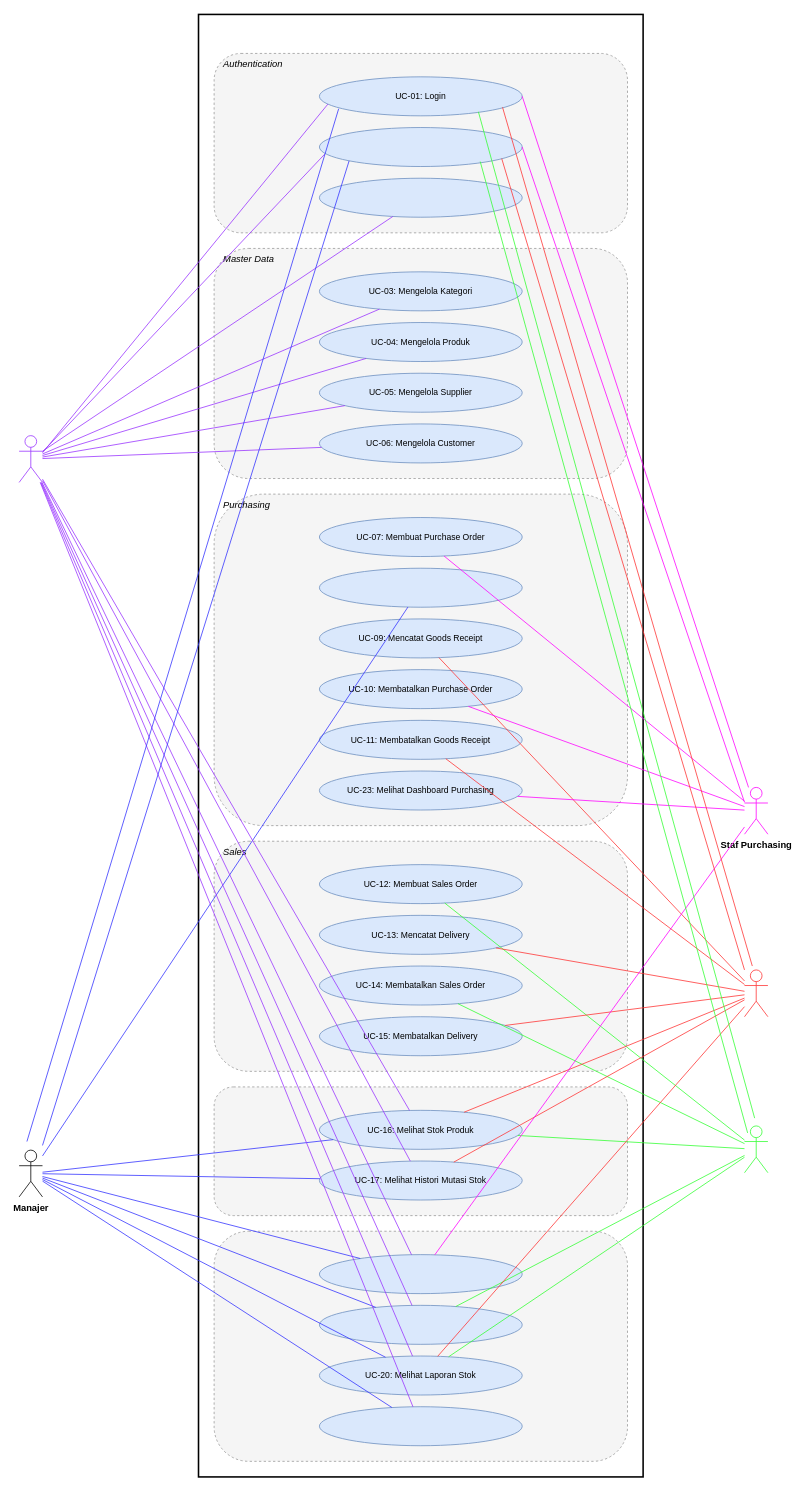
Image size: 805x1491. Some labels were removed from this diagram. Each missing label, with the box of its shape:
Admin: (18, 435, 43, 482)
Inventory: (213, 1086, 628, 1216)
Reporting: (213, 1230, 628, 1461)
Sistem Mini ERP (Inventory & Sales) - PT Nusantara Distribusi: (197, 13, 644, 1477)
Staf Gudang: (744, 969, 768, 1017)
Staf Sales: (744, 1125, 768, 1173)
UC-02: Logout: (319, 127, 522, 167)
UC-08: Menyetujui Purchase Order: (319, 567, 522, 607)
UC-18: Melihat Laporan Pembelian: (319, 1254, 522, 1294)
UC-19: Melihat Laporan Penjualan: (319, 1305, 522, 1344)
UC-21: Melihat Laporan Produk Terlaris (Top 10): (319, 1406, 522, 1446)
UC-22: Mengelola Akun Pengguna: (319, 177, 522, 217)
